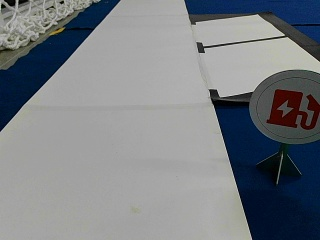battery: (250, 69, 317, 142)
